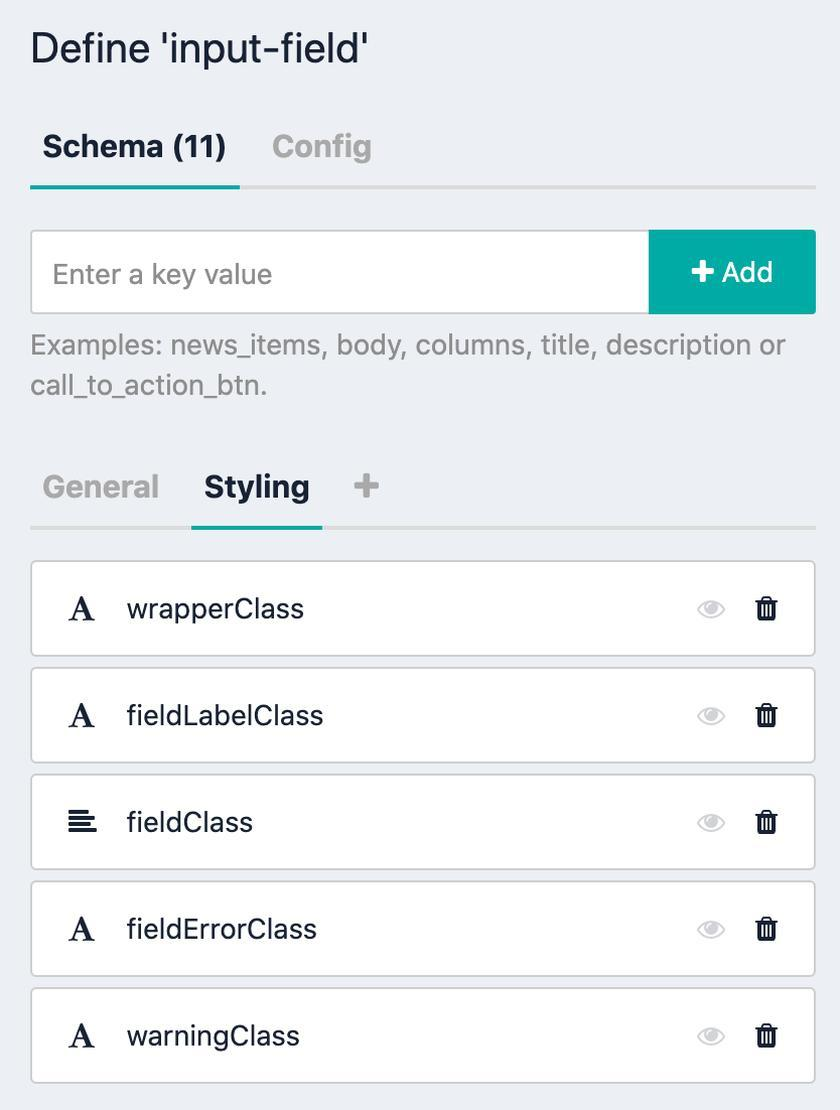button: (647, 233, 817, 313)
icon: (750, 687, 788, 739), (748, 795, 785, 847), (688, 590, 735, 630), (689, 1020, 741, 1055), (693, 907, 735, 949), (753, 1012, 785, 1063), (348, 471, 390, 508), (692, 698, 730, 738), (751, 907, 784, 950), (694, 805, 729, 841), (752, 591, 787, 626)
input: (33, 882, 816, 980), (31, 560, 812, 658), (32, 992, 816, 1089), (32, 669, 813, 763), (32, 776, 817, 866), (31, 232, 647, 314)
